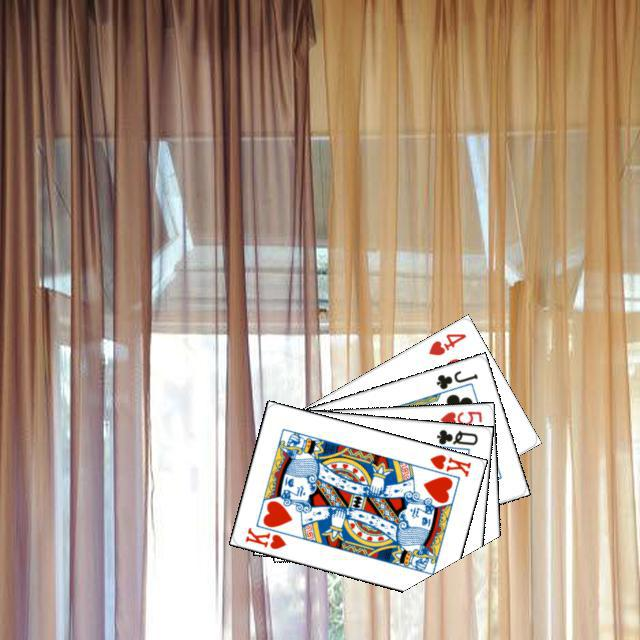4h: (423, 328, 468, 357)
5h: (435, 406, 483, 428)
Jc: (431, 365, 479, 391)
Kh: (418, 449, 473, 482), (240, 523, 288, 551)
Qc: (426, 425, 480, 454)
